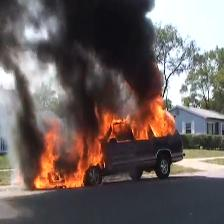fire: (129, 96, 176, 139), (76, 132, 105, 169), (37, 169, 86, 190), (96, 111, 129, 141), (40, 127, 60, 169)
smoke: (39, 0, 161, 98), (2, 0, 39, 191), (57, 99, 96, 135)
